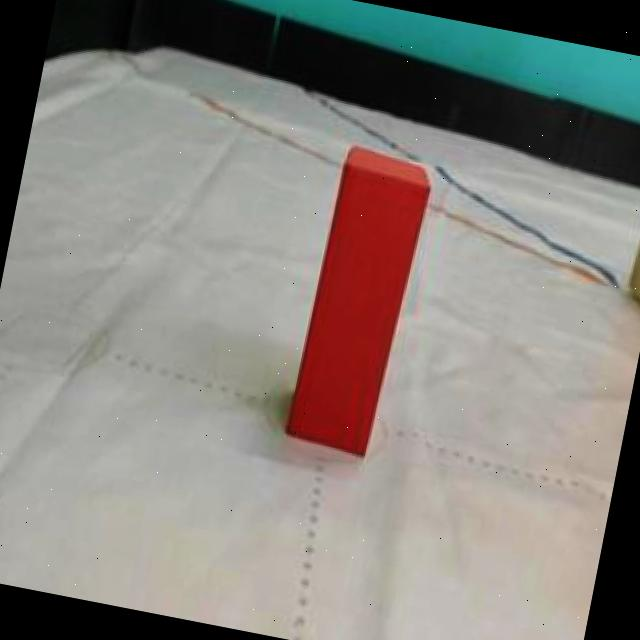redbox: (284, 143, 436, 458)
